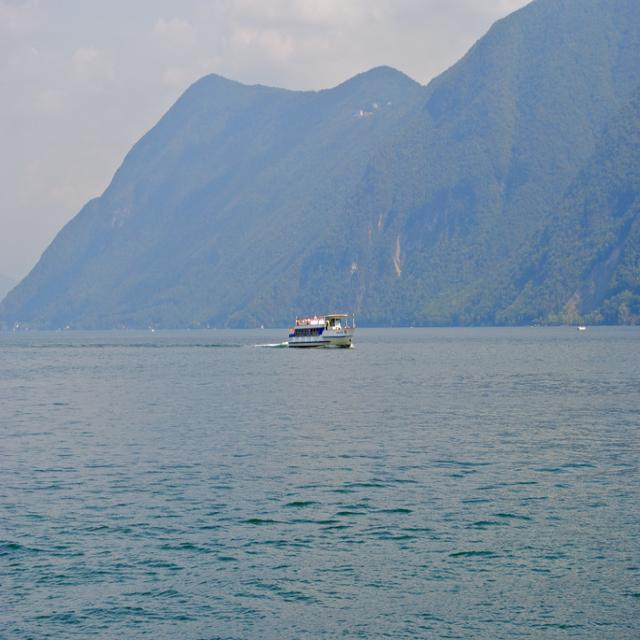fishing boat: (278, 303, 356, 357)
